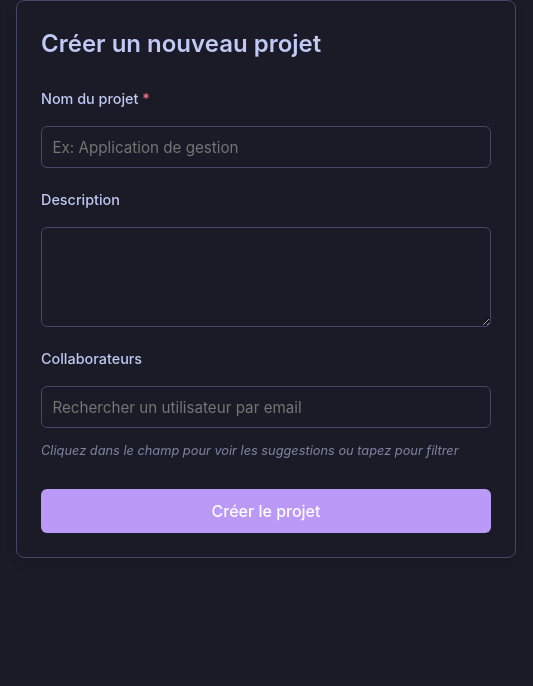
Test: CreateProjectForm › devrait valider le format des emails des collaborateurs
The width and height of the screenshot is (533, 686).
Step 1. Type "Mon Projet" into the field named "projectName" → (266,147), box [41,126,491,168]
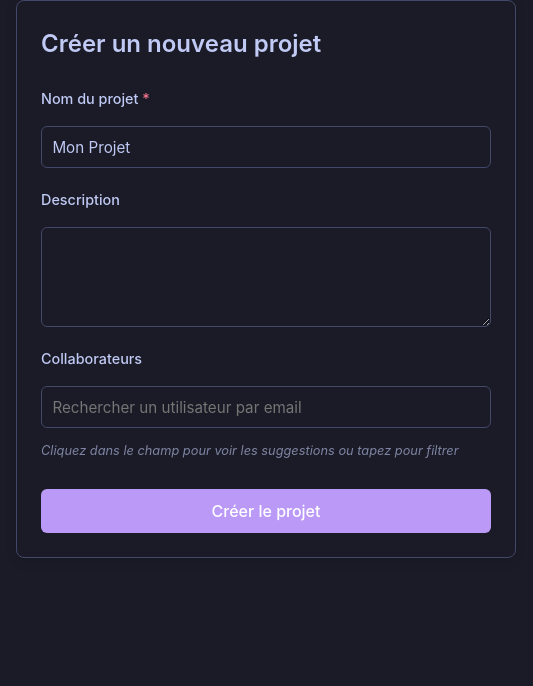
Step 2. Type "invalid-email" into the field named "collaborateurs" → (266,407), box [41,386,491,428]
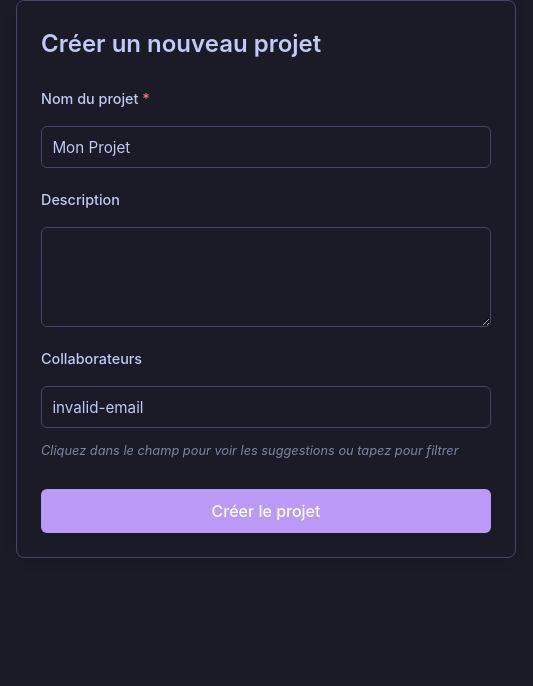
Step 3. Submit the form
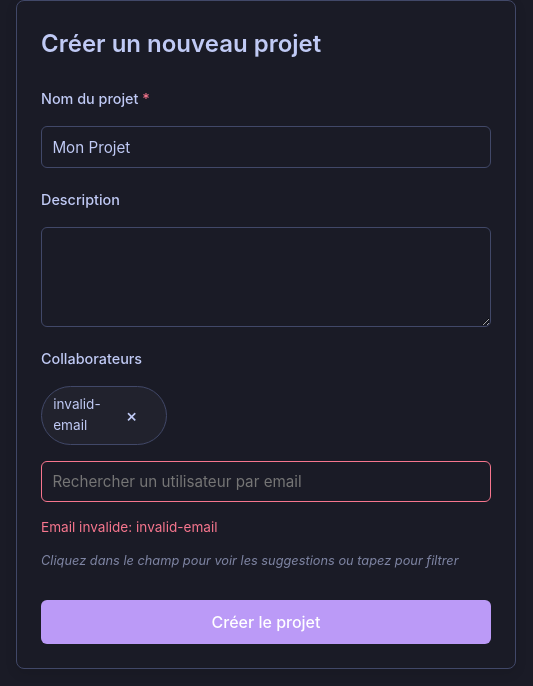
Expected: the form shows "email invalide", [41,519,218,535]
